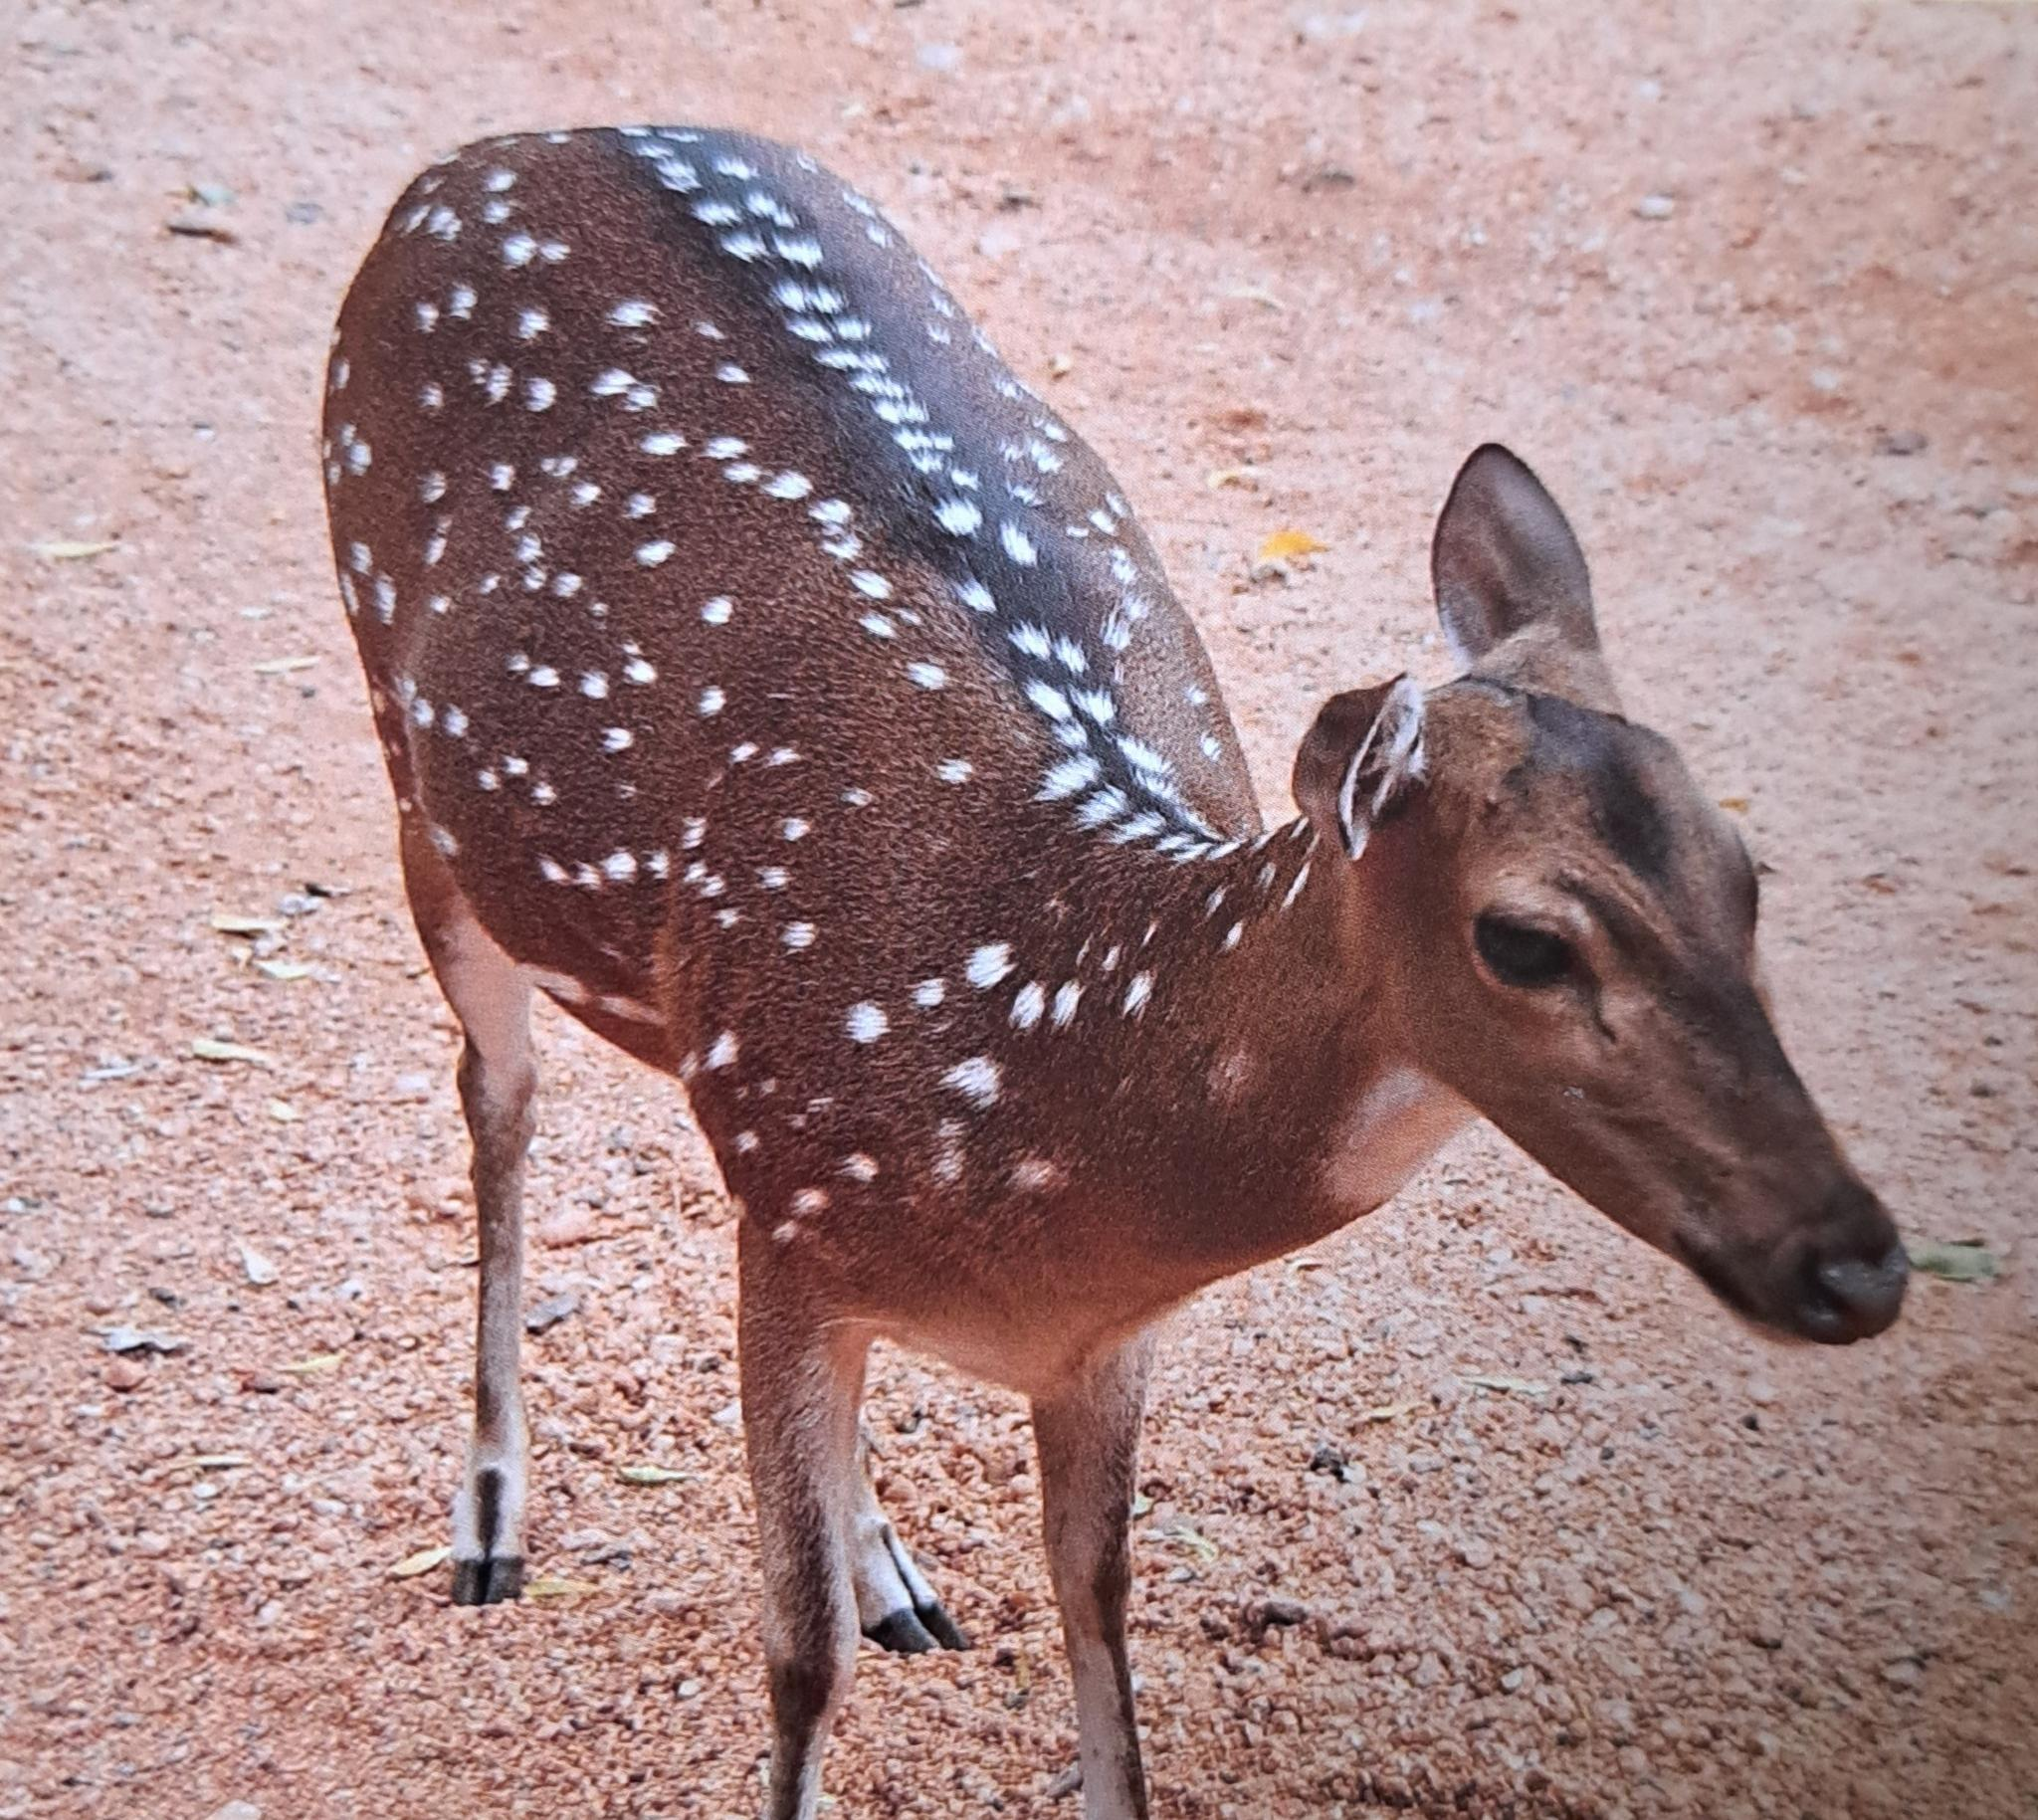Deer: (323, 128, 1908, 1818)
